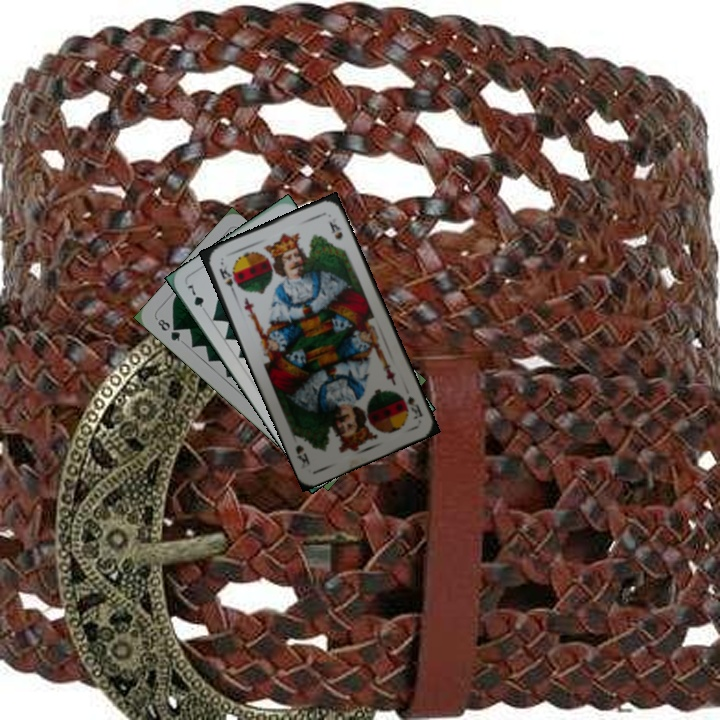G7: (183, 281, 210, 317)
G8: (153, 314, 183, 344)
SK: (215, 262, 238, 298), (398, 392, 425, 422)
